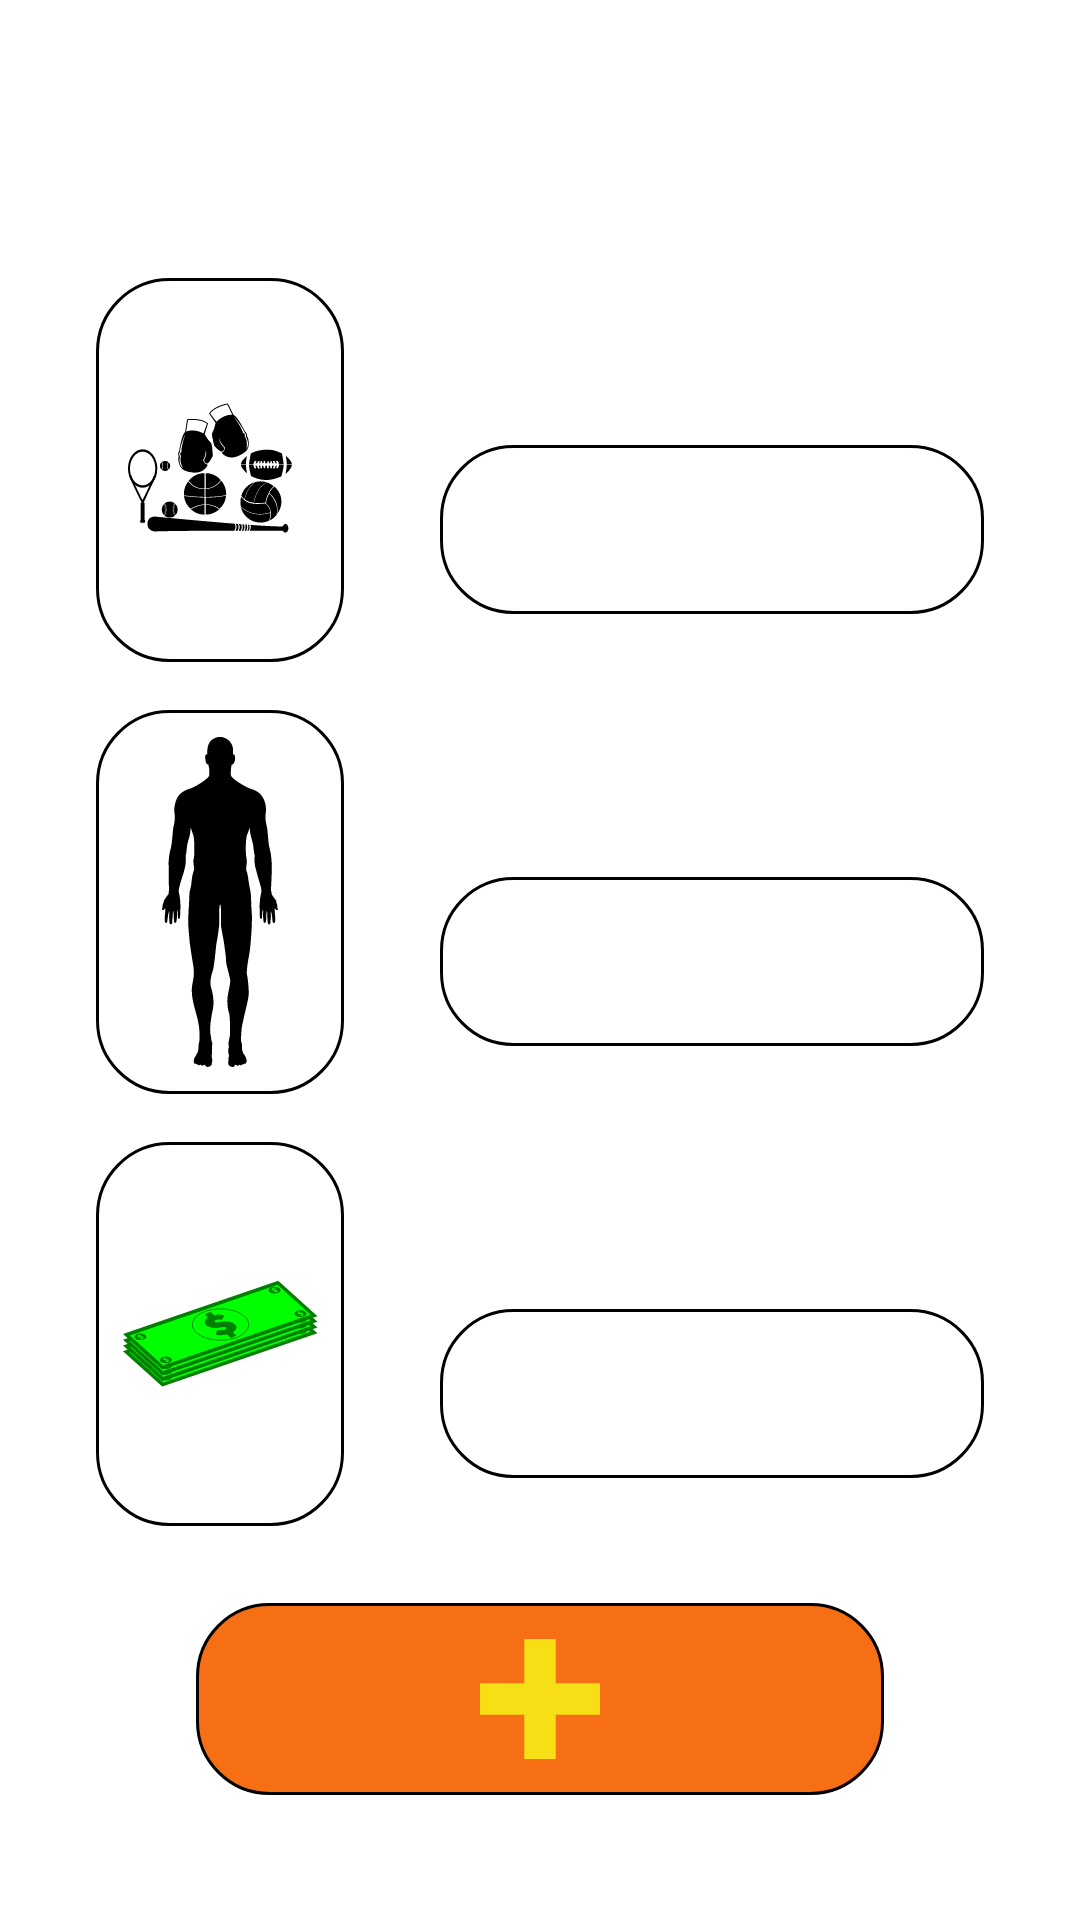

Named icons in this screenshot (1080w x 1920h) and their centers, point (x, y):
body: point (196, 878)
dollar stack: point (196, 1310)
sports equipment: point (210, 468)
